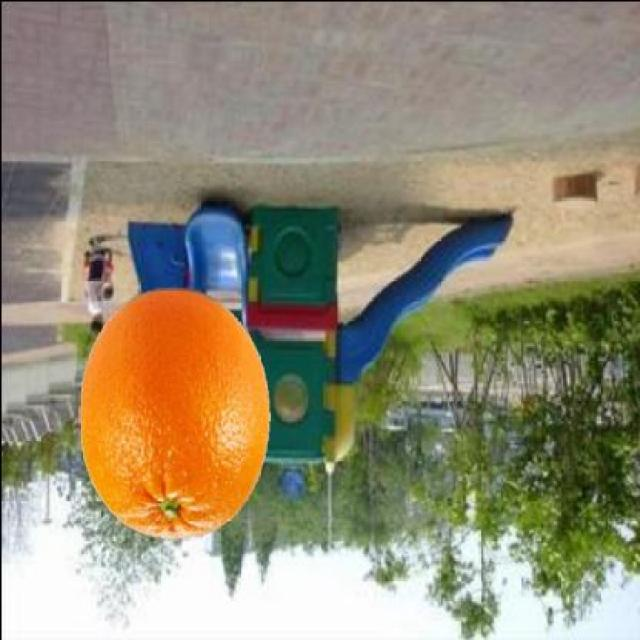Orange: (75, 286, 271, 540)
